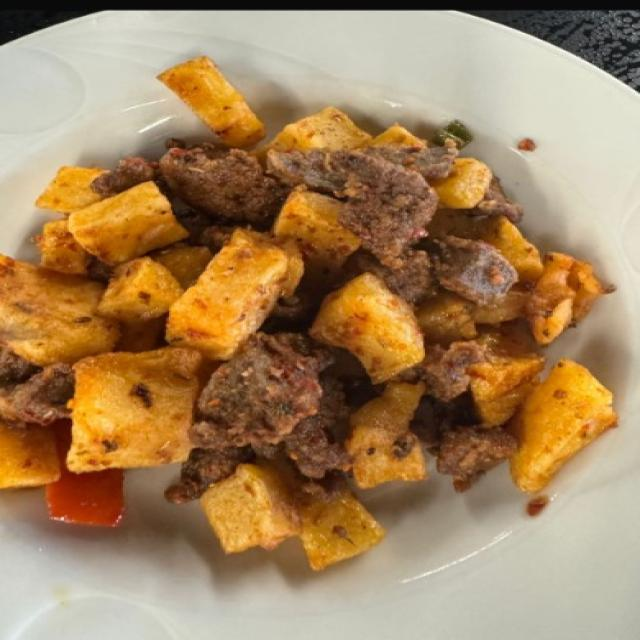ana_yemek: (0, 52, 620, 572)
